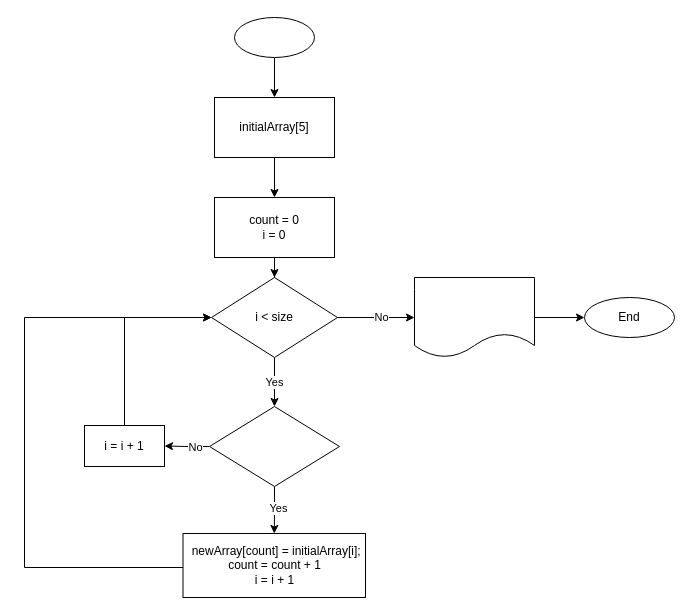
Some shapes in this 692 by 615 pixel diagram are drawn without their labels. Here are the shapes that lost their labels. From the top down, the box of each, then its label:
(234, 16, 314, 58): Start
(414, 276, 534, 358): newArray[count]
(208, 406, 340, 486): array.length<=3
